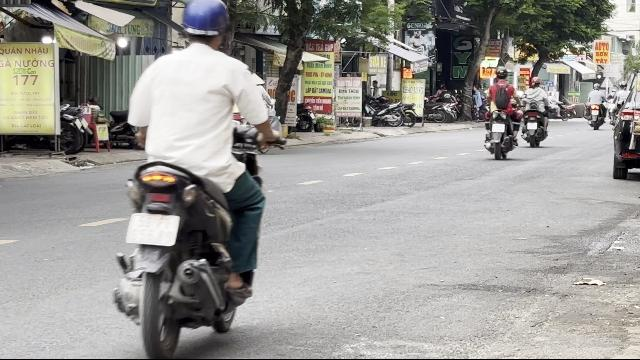helmet: (175, 0, 231, 50)
licenseplate: (127, 214, 177, 244)
motorcyclist: (111, 0, 279, 356)
